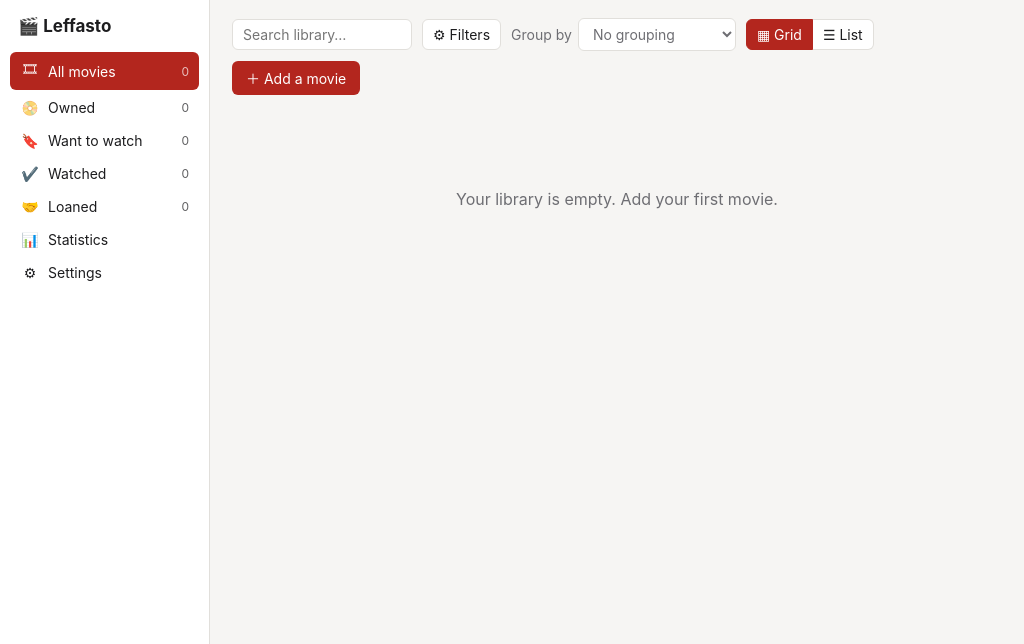
Test case: App › rating an unwatched movie marks it watched; un-watching a rated movie asks first
Click the button "＋ Add a movie" at (296, 78), box left=232, top=61, right=360, bottom=95
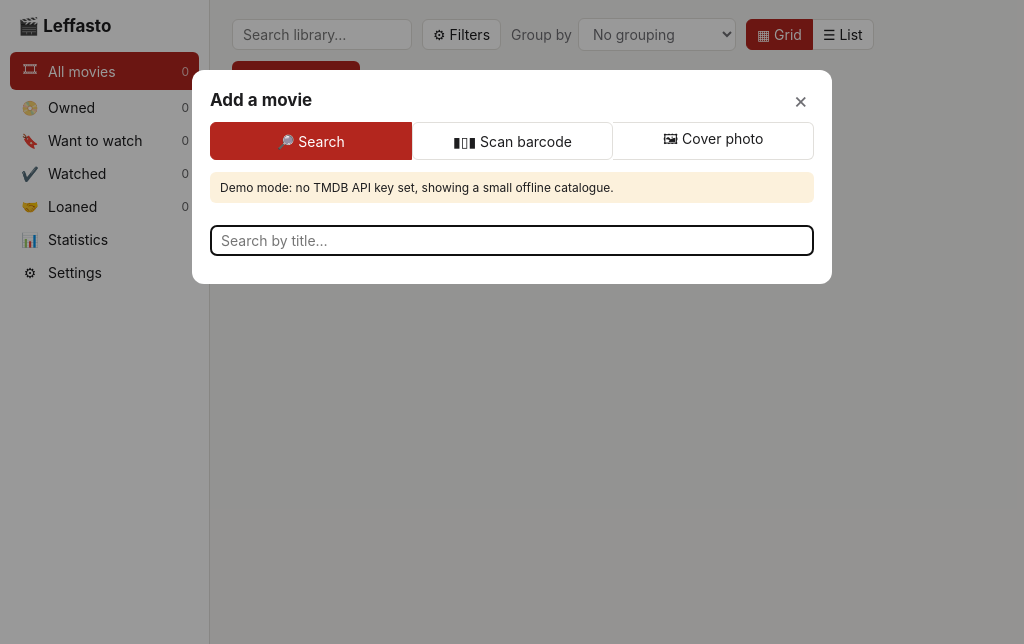
Type "paratiisissa" into the field with placeholder "Search by title…" at (512, 240), box left=210, top=225, right=814, bottom=256
Submit the form from the field with placeholder "Search by title…", box left=210, top=225, right=814, bottom=256
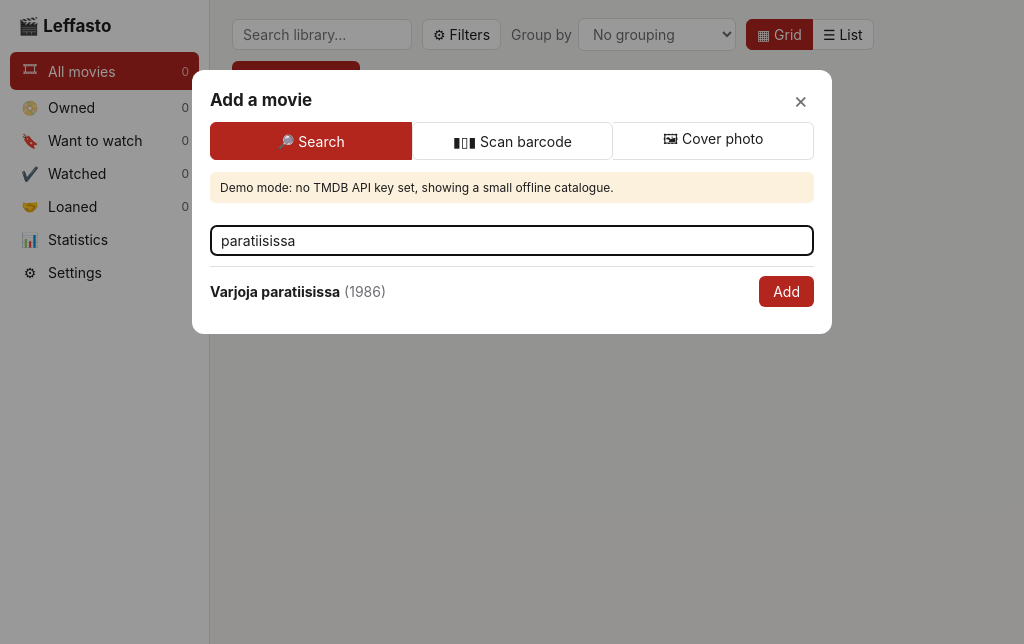
Click the button "Add" at (787, 292), box left=759, top=276, right=814, bottom=307
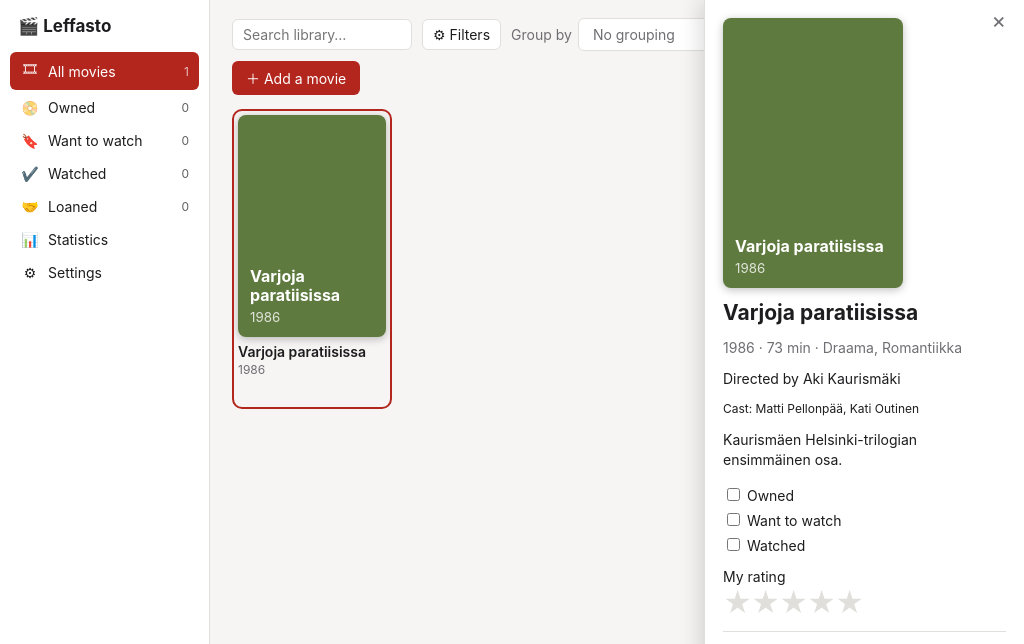
Now the checkbox labelled "Watched" is not checked, box left=727, top=538, right=740, bottom=551
Click the button named "4" at (828, 603), box left=821, top=589, right=835, bottom=617
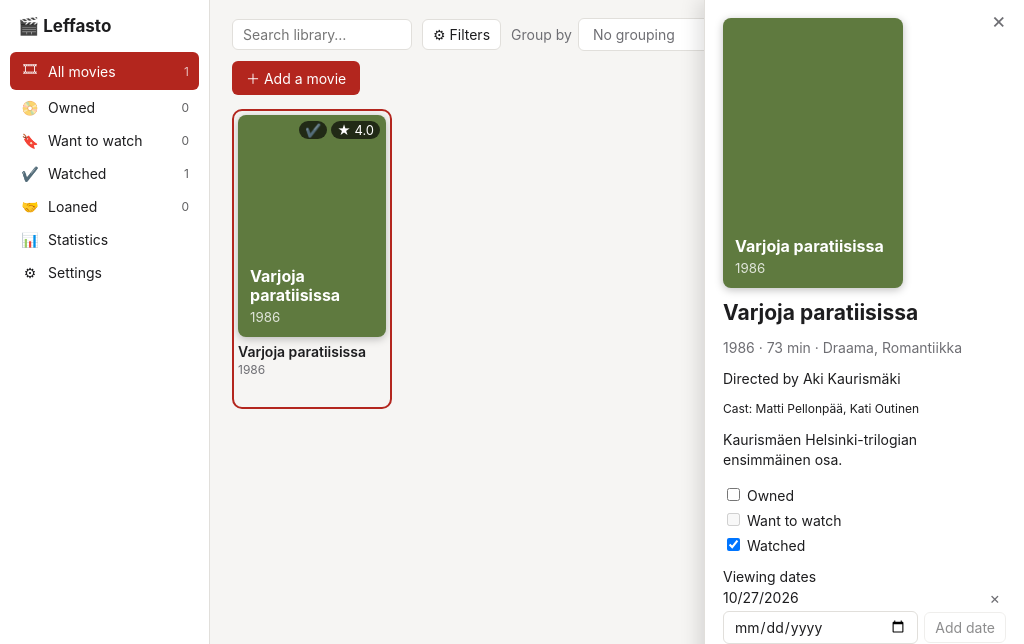
Now the checkbox labelled "Watched" is checked
Click the checkbox labelled "Watched" at (734, 544), box left=727, top=538, right=740, bottom=551
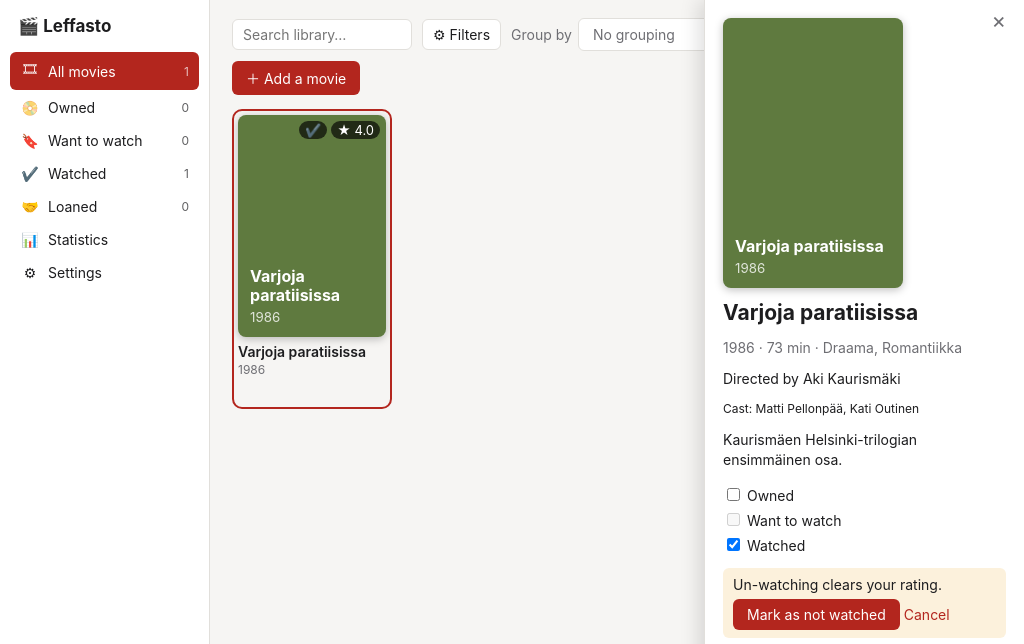
Now the checkbox labelled "Watched" is checked, box left=727, top=538, right=740, bottom=551
Now the text "Un-watching clears your rating." is shown, box left=733, top=576, right=942, bottom=593
Click the button "Mark as not watched" at (816, 614), box left=733, top=599, right=900, bottom=630
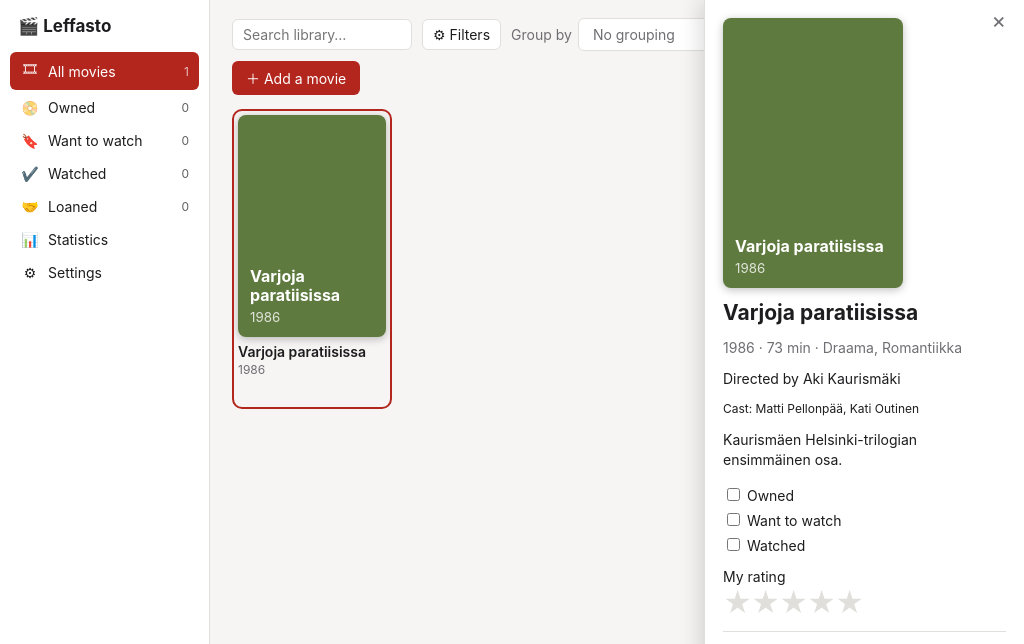
Now the checkbox labelled "Watched" is not checked, box left=727, top=538, right=740, bottom=551
Now the text "clear" is gone
